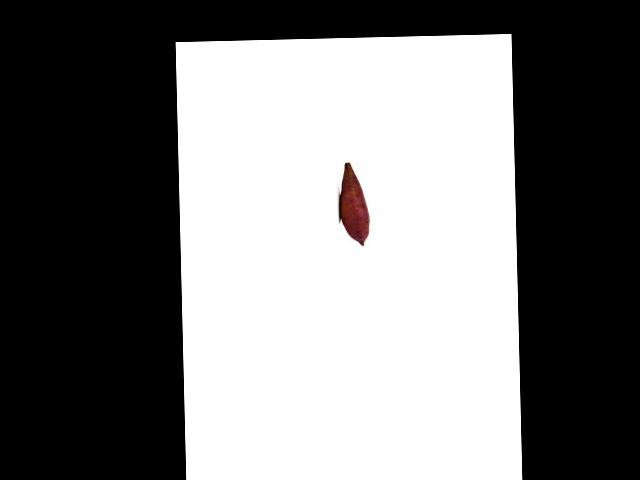sweet_potato: (340, 162, 369, 246)
